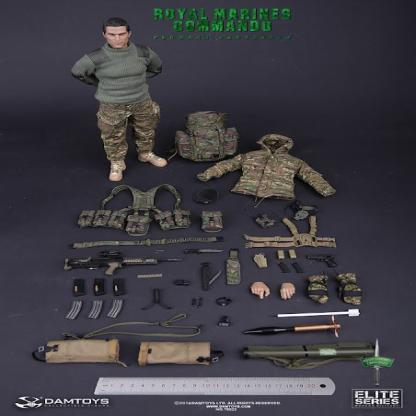Gun: (241, 342, 376, 371), (62, 248, 184, 278)
Knife: (370, 337, 382, 387), (184, 247, 224, 254)
Pistol: (306, 254, 338, 268)
